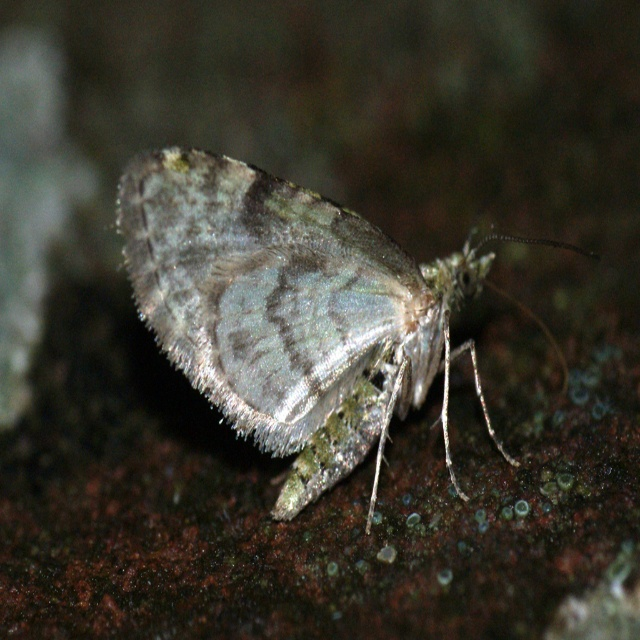Butterfly: (114, 143, 601, 532)
